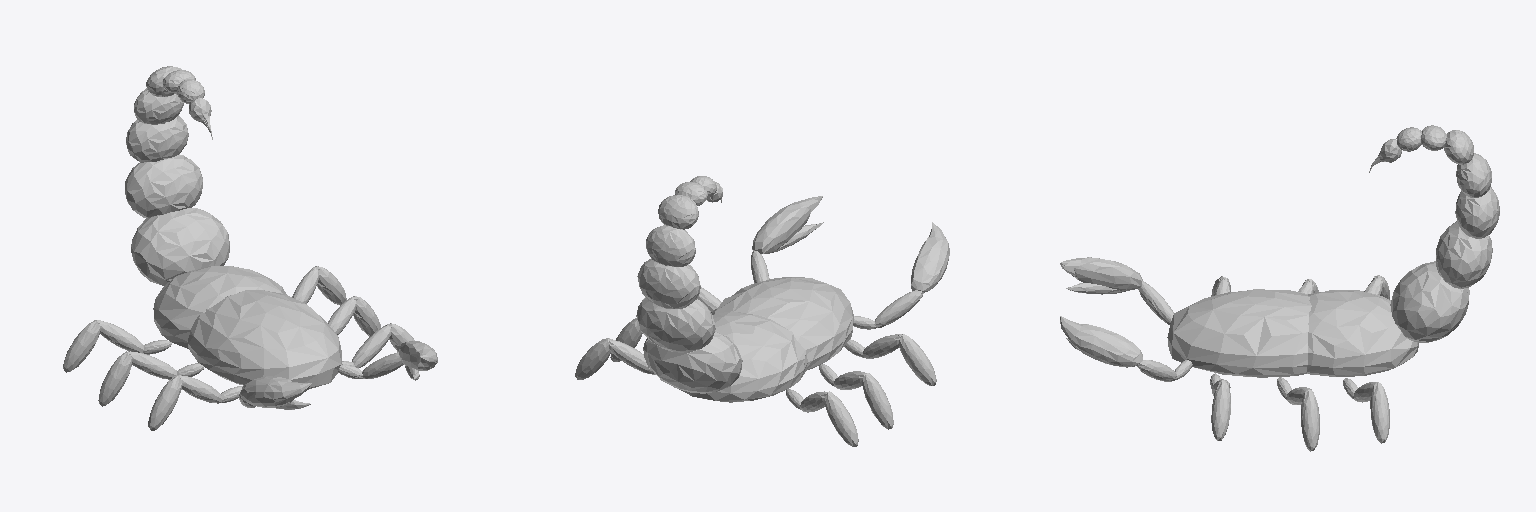
Rendered from scorpion_000033.obj.
3 views of the same model, side by side, from view 1: azimuth 30°, elevation 25°; view 2: azimuth 150°, elevation 25°; view 3: azimuth 270°, elevation 25° (orthographic).
Visible parts, largest first — view 1: Sphere.010_Sphere.012, Sphere.002_Sphere.004, Sphere.011_Sphere.013, Sphere.003_Sphere.005, Sphere.030_Sphere.000, Sphere.004_Sphere.006, Sphere.014_Sphere.023, Sphere.012_Sphere.020, Sphere.013_Sphere.017, Sphere.000_Sphere.019, Sphere.016_Sphere.022, Sphere.018_Sphere.025 (+3 smaller); view 2: Sphere.010_Sphere.012, Sphere.011_Sphere.013, Sphere.002_Sphere.004, Sphere.030_Sphere.000, Sphere.003_Sphere.005, Sphere.004_Sphere.006, Sphere.014_Sphere.023, Sphere.005_Sphere.007, Sphere.012_Sphere.020, Sphere.028_Sphere.046, Sphere.006_Sphere.008, Sphere.018_Sphere.025 (+2 smaller); view 3: Sphere.010_Sphere.012, Sphere.011_Sphere.013, Sphere.002_Sphere.004, Sphere.030_Sphere.000, Sphere.003_Sphere.005, Sphere.004_Sphere.006, Sphere.028_Sphere.046, Sphere.005_Sphere.007, Sphere.014_Sphere.023, Sphere.000_Sphere.019, Sphere.012_Sphere.020, Sphere.006_Sphere.008 (+1 smaller).
Part boxes in pixels (x1,y1,x2,y2): Sphere.010_Sphere.012: (187, 290, 341, 389); Sphere.002_Sphere.004: (131, 208, 229, 285); Sphere.011_Sphere.013: (153, 266, 286, 348); Sphere.003_Sphere.005: (125, 154, 202, 217); Sphere.030_Sphere.000: (240, 341, 437, 407); Sphere.004_Sphere.006: (126, 115, 188, 162); Sphere.014_Sphere.023: (63, 266, 346, 372); Sphere.012_Sphere.020: (98, 296, 380, 406); Sphere.013_Sphere.017: (178, 324, 390, 403); Sphere.000_Sphere.019: (148, 323, 414, 430); Sphere.016_Sphere.022: (128, 297, 356, 379); Sphere.018_Sphere.025: (99, 267, 318, 352); Sphere.010_Sphere.012: (712, 277, 853, 370); Sphere.011_Sphere.013: (679, 311, 807, 402); Sphere.002_Sphere.004: (643, 329, 742, 393); Sphere.030_Sphere.000: (752, 196, 949, 292); Sphere.003_Sphere.005: (636, 297, 715, 352); Sphere.004_Sphere.006: (637, 259, 700, 308); Sphere.014_Sphere.023: (575, 338, 858, 446); Sphere.005_Sphere.007: (646, 225, 695, 266); Sphere.012_Sphere.020: (610, 318, 893, 429); Sphere.028_Sphere.046: (751, 250, 923, 327); Sphere.006_Sphere.008: (658, 195, 698, 229); Sphere.018_Sphere.025: (609, 339, 826, 412); Sphere.010_Sphere.012: (1167, 289, 1311, 377); Sphere.011_Sphere.013: (1307, 290, 1418, 376); Sphere.002_Sphere.004: (1390, 261, 1469, 342); Sphere.030_Sphere.000: (1060, 257, 1142, 367); Sphere.003_Sphere.005: (1436, 221, 1492, 288); Sphere.004_Sphere.006: (1455, 187, 1499, 238); Sphere.028_Sphere.046: (1137, 281, 1176, 381); Sphere.005_Sphere.007: (1456, 153, 1491, 197); Sphere.014_Sphere.023: (1370, 275, 1389, 443); Sphere.000_Sphere.019: (1211, 276, 1230, 440); Sphere.012_Sphere.020: (1301, 279, 1319, 451); Sphere.006_Sphere.008: (1444, 130, 1473, 164).
Size of the model in its own units: 0.9303 by 0.8065 by 1.25.